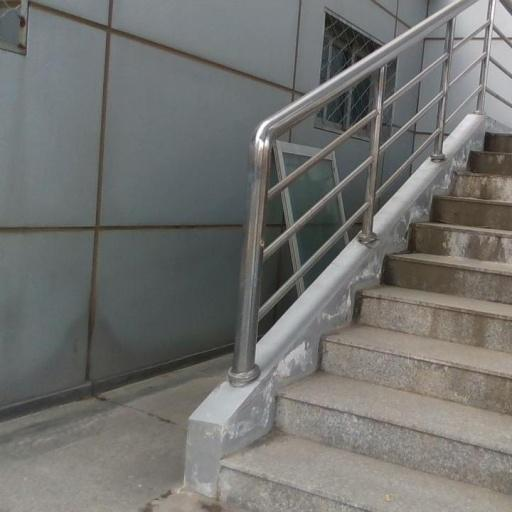stairs: (220, 135, 511, 511)
